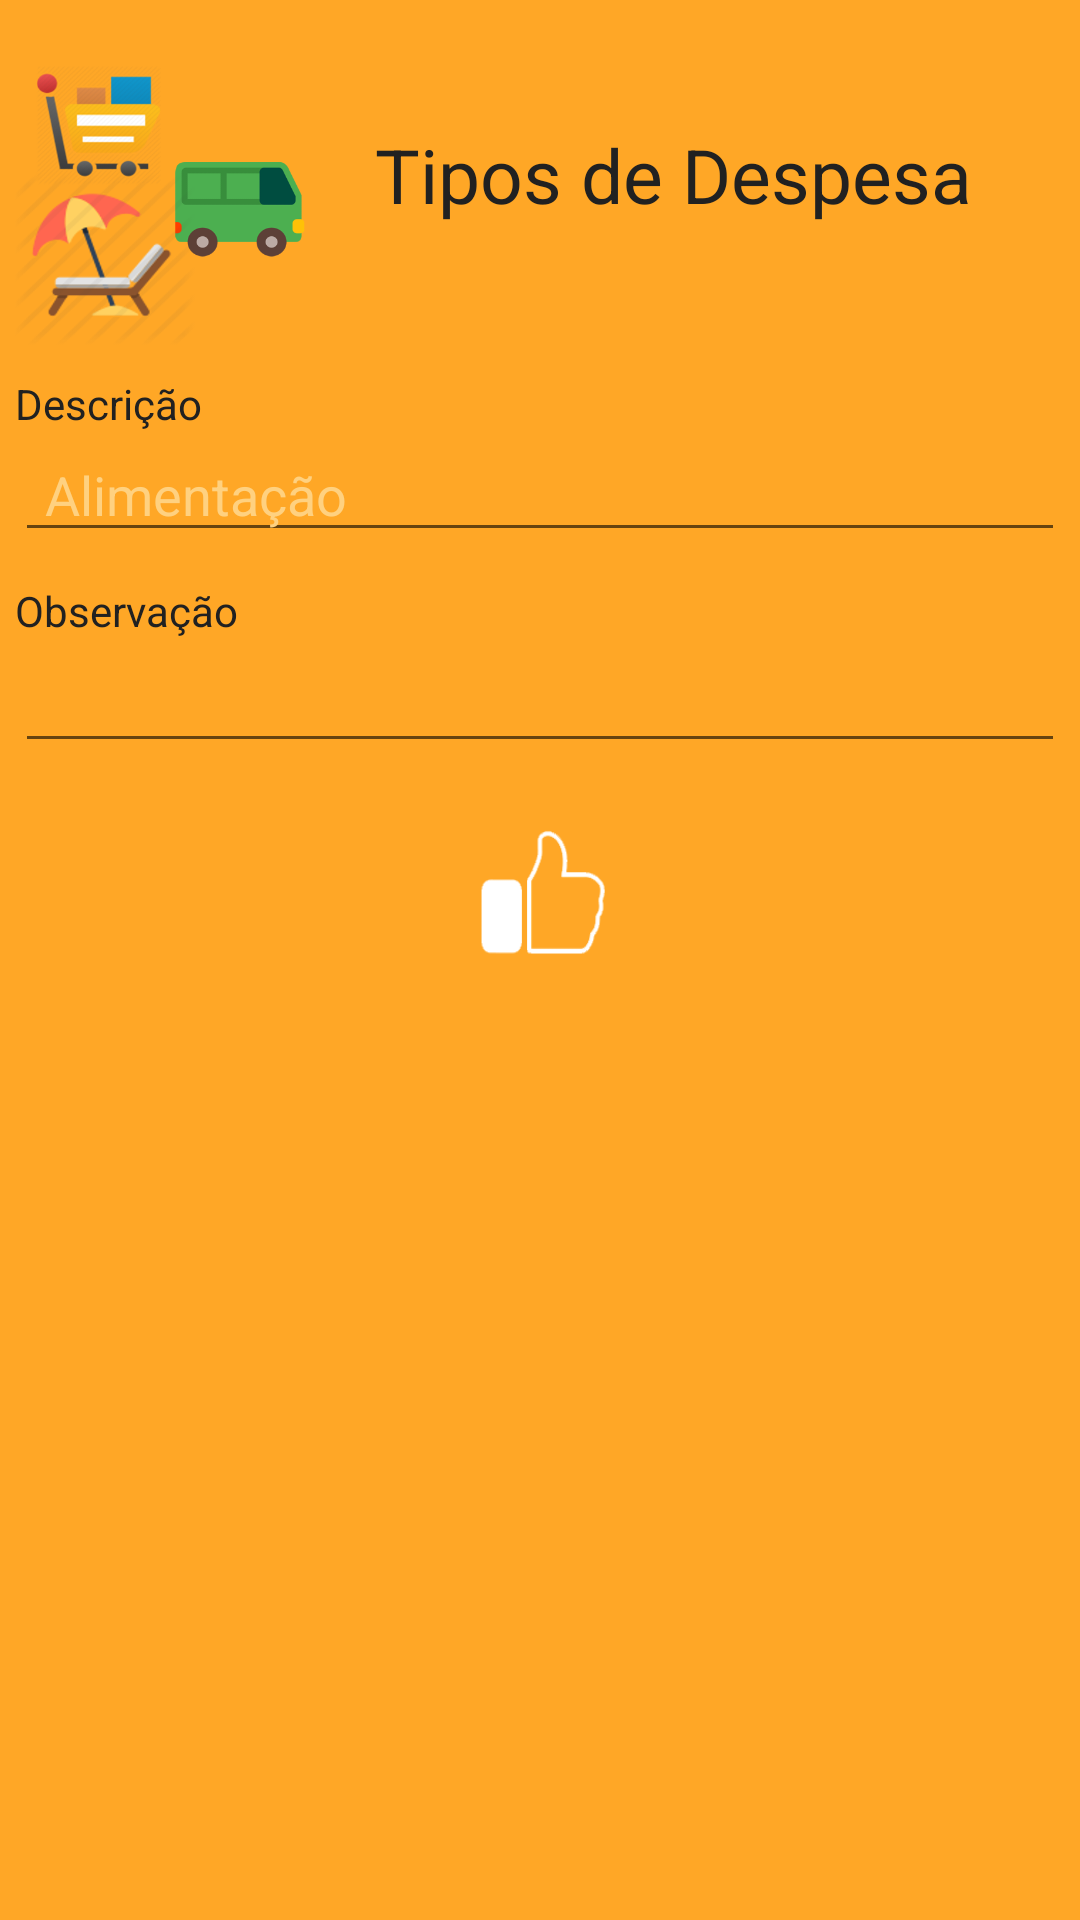

Named icons in this screenshot (1080×1920) and their centers, point (x, y):
despesas: point (168, 195)
